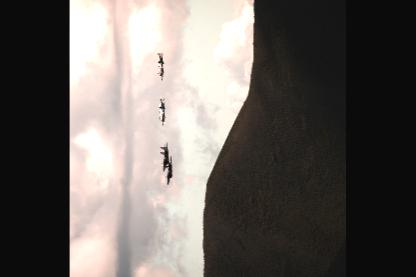A10: (158, 96, 165, 126), (157, 50, 164, 80)
F117: (160, 140, 168, 170), (165, 154, 172, 184)
